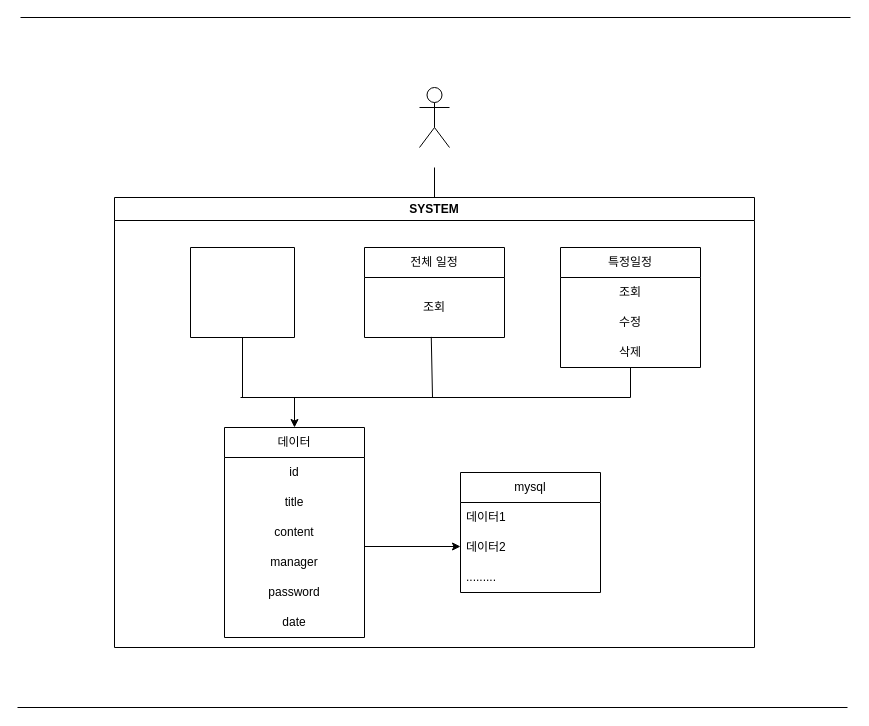
The diagram is 869 pixels wide and 726 high, and some of its shapes have lost their labels. Each missing label, with the box of its shape:
Actor: (418, 86, 450, 148)
일정 추가: (190, 246, 294, 338)
